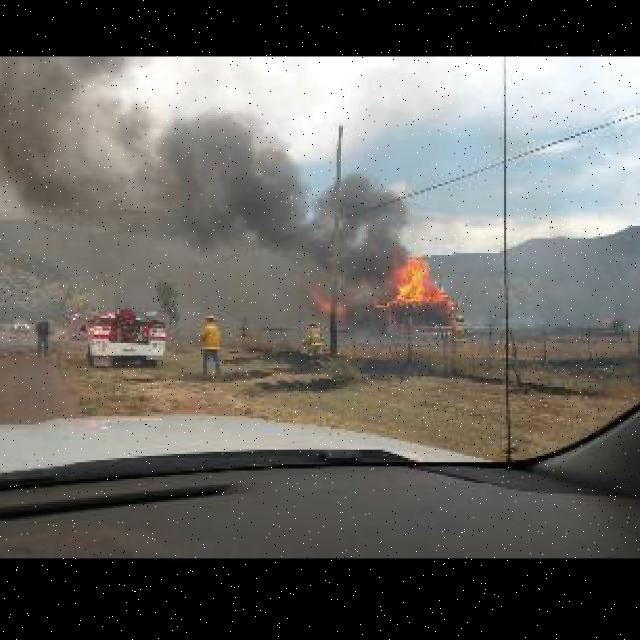fire: (383, 244, 462, 310)
smoke: (0, 90, 408, 282)
